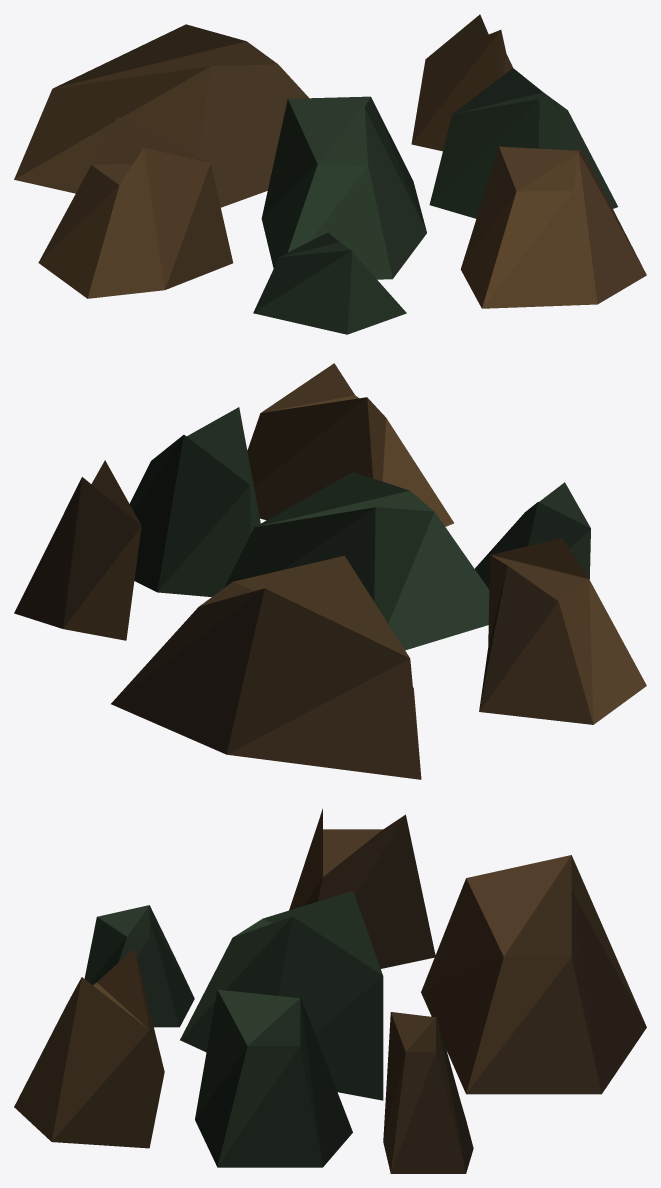
File: adamantite-ore.obj
3 renders of one model, top to bottom at view 1: azimuth 30°, elevation 25°; view 2: azimuth 150°, elevation 25°; view 3: azimuth 270°, elevation 25°, orthographic. The views are drawn at different scales.
Visible parts, largest first — view 1: Item Adamantite ore 2026-09-12_21-08-56; view 2: Item Adamantite ore 2026-09-12_21-08-56; view 3: Item Adamantite ore 2026-09-12_21-08-56.
Part boxes in pixels (left/top/right/bottom): Item Adamantite ore 2026-09-12_21-08-56: left=14, top=14, right=646, bottom=334; Item Adamantite ore 2026-09-12_21-08-56: left=14, top=363, right=646, bottom=779; Item Adamantite ore 2026-09-12_21-08-56: left=14, top=808, right=646, bottom=1173.
Size of the model in its own units: 83 by 20 by 84.
